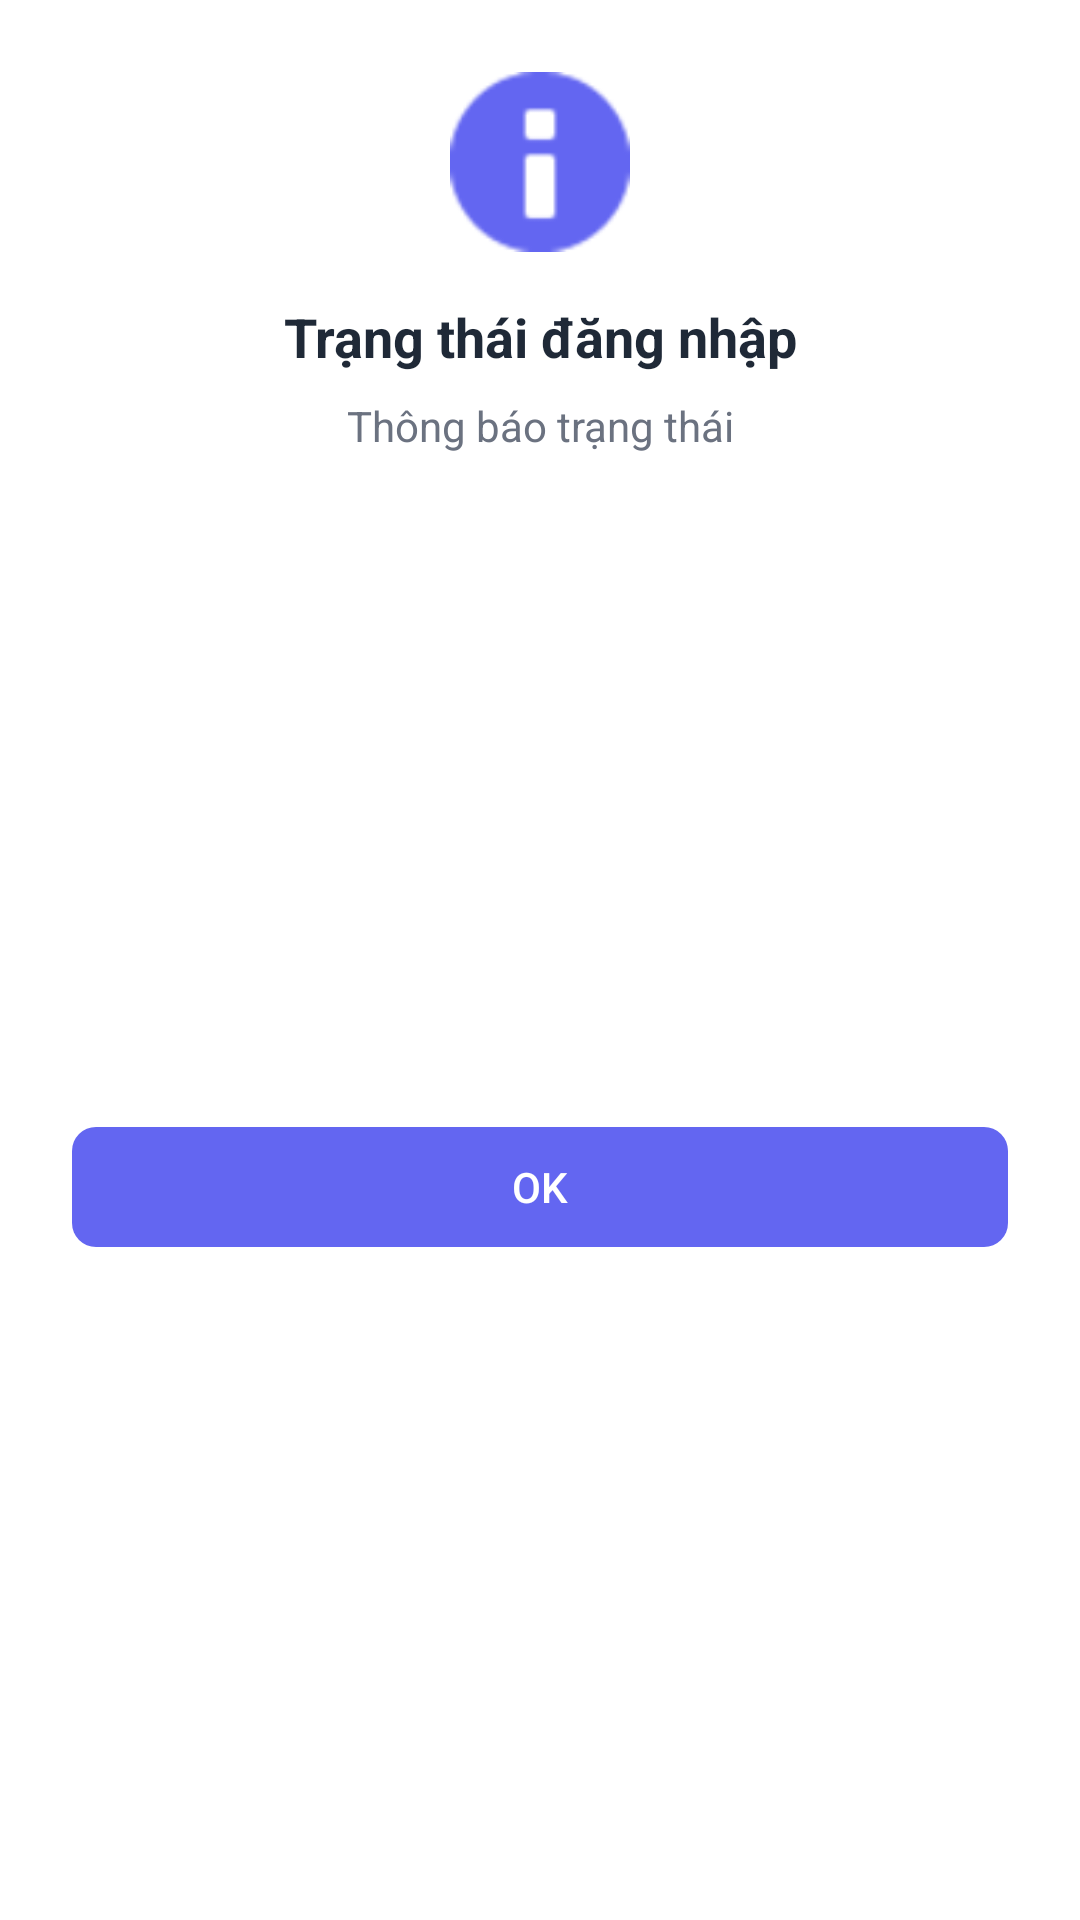

Icon bounding boxes for this 1080x1920 phone screenshot, format rect(x1, y1, x2, y2):
info: rect(450, 72, 630, 252)
